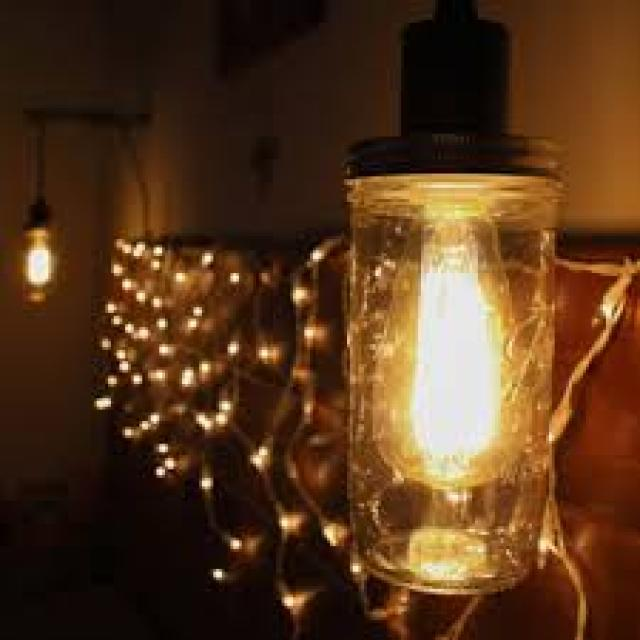glass: (341, 168, 566, 594), (373, 197, 529, 487), (20, 222, 54, 304), (23, 242, 48, 287)
